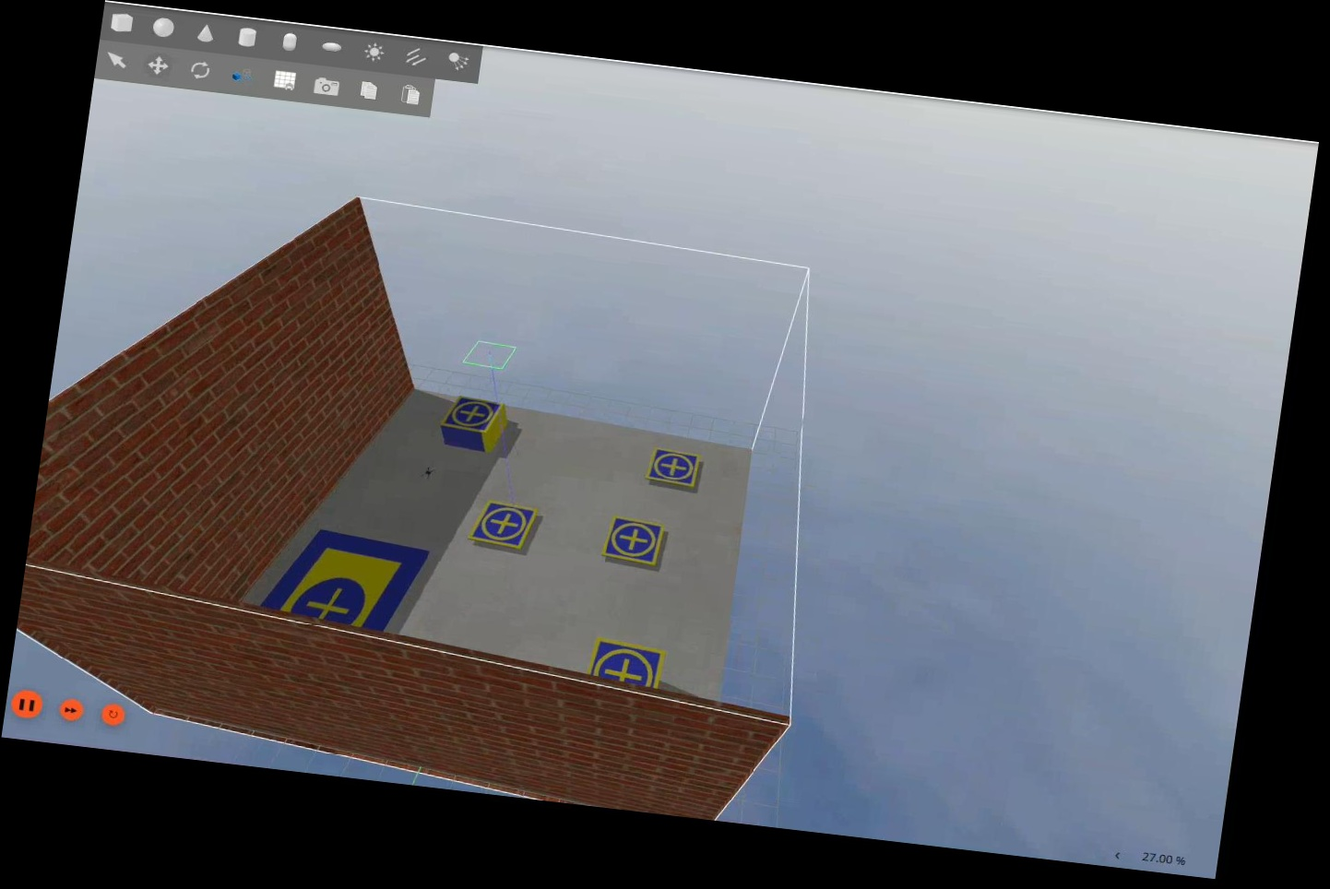large_base: (256, 521, 432, 637)
small_base: (588, 638, 666, 693), (469, 498, 539, 551), (601, 514, 666, 568), (440, 393, 505, 433), (645, 445, 702, 489)
